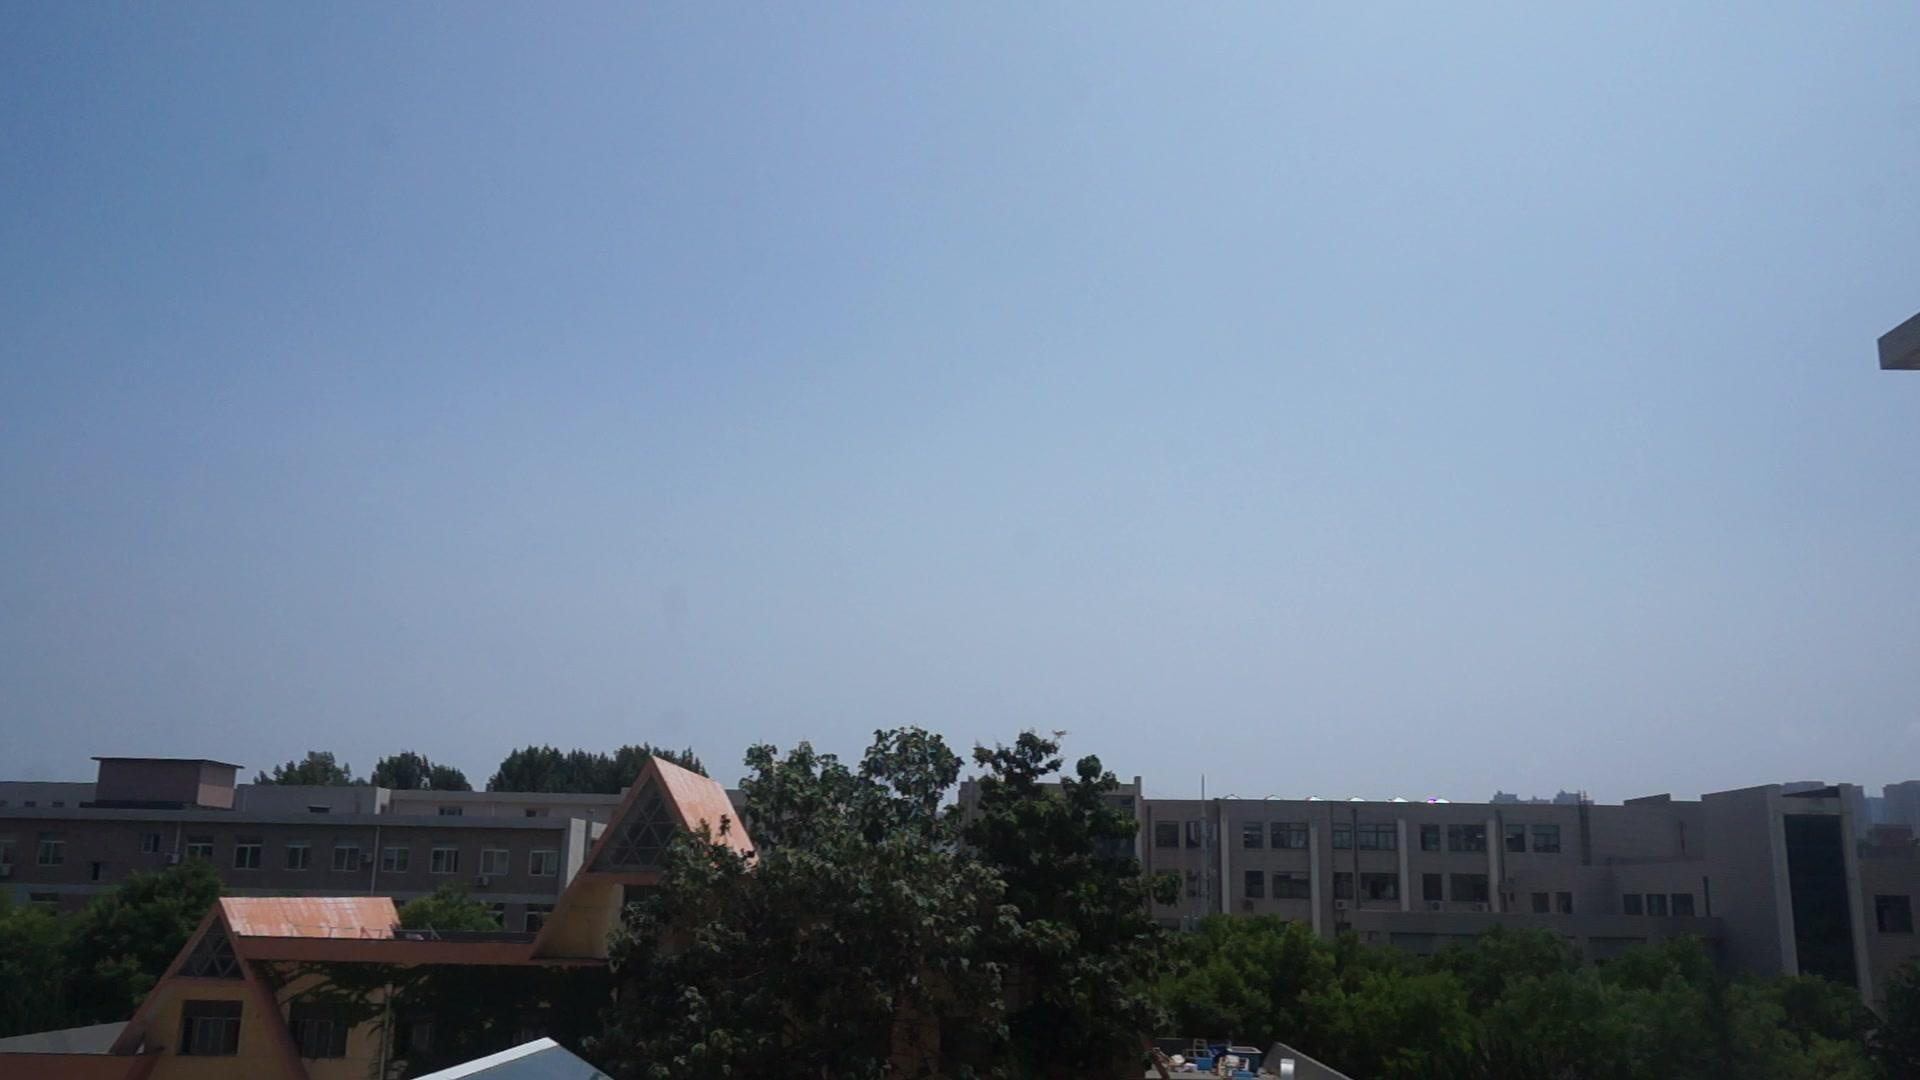UAV: (1050, 731, 1073, 741)
